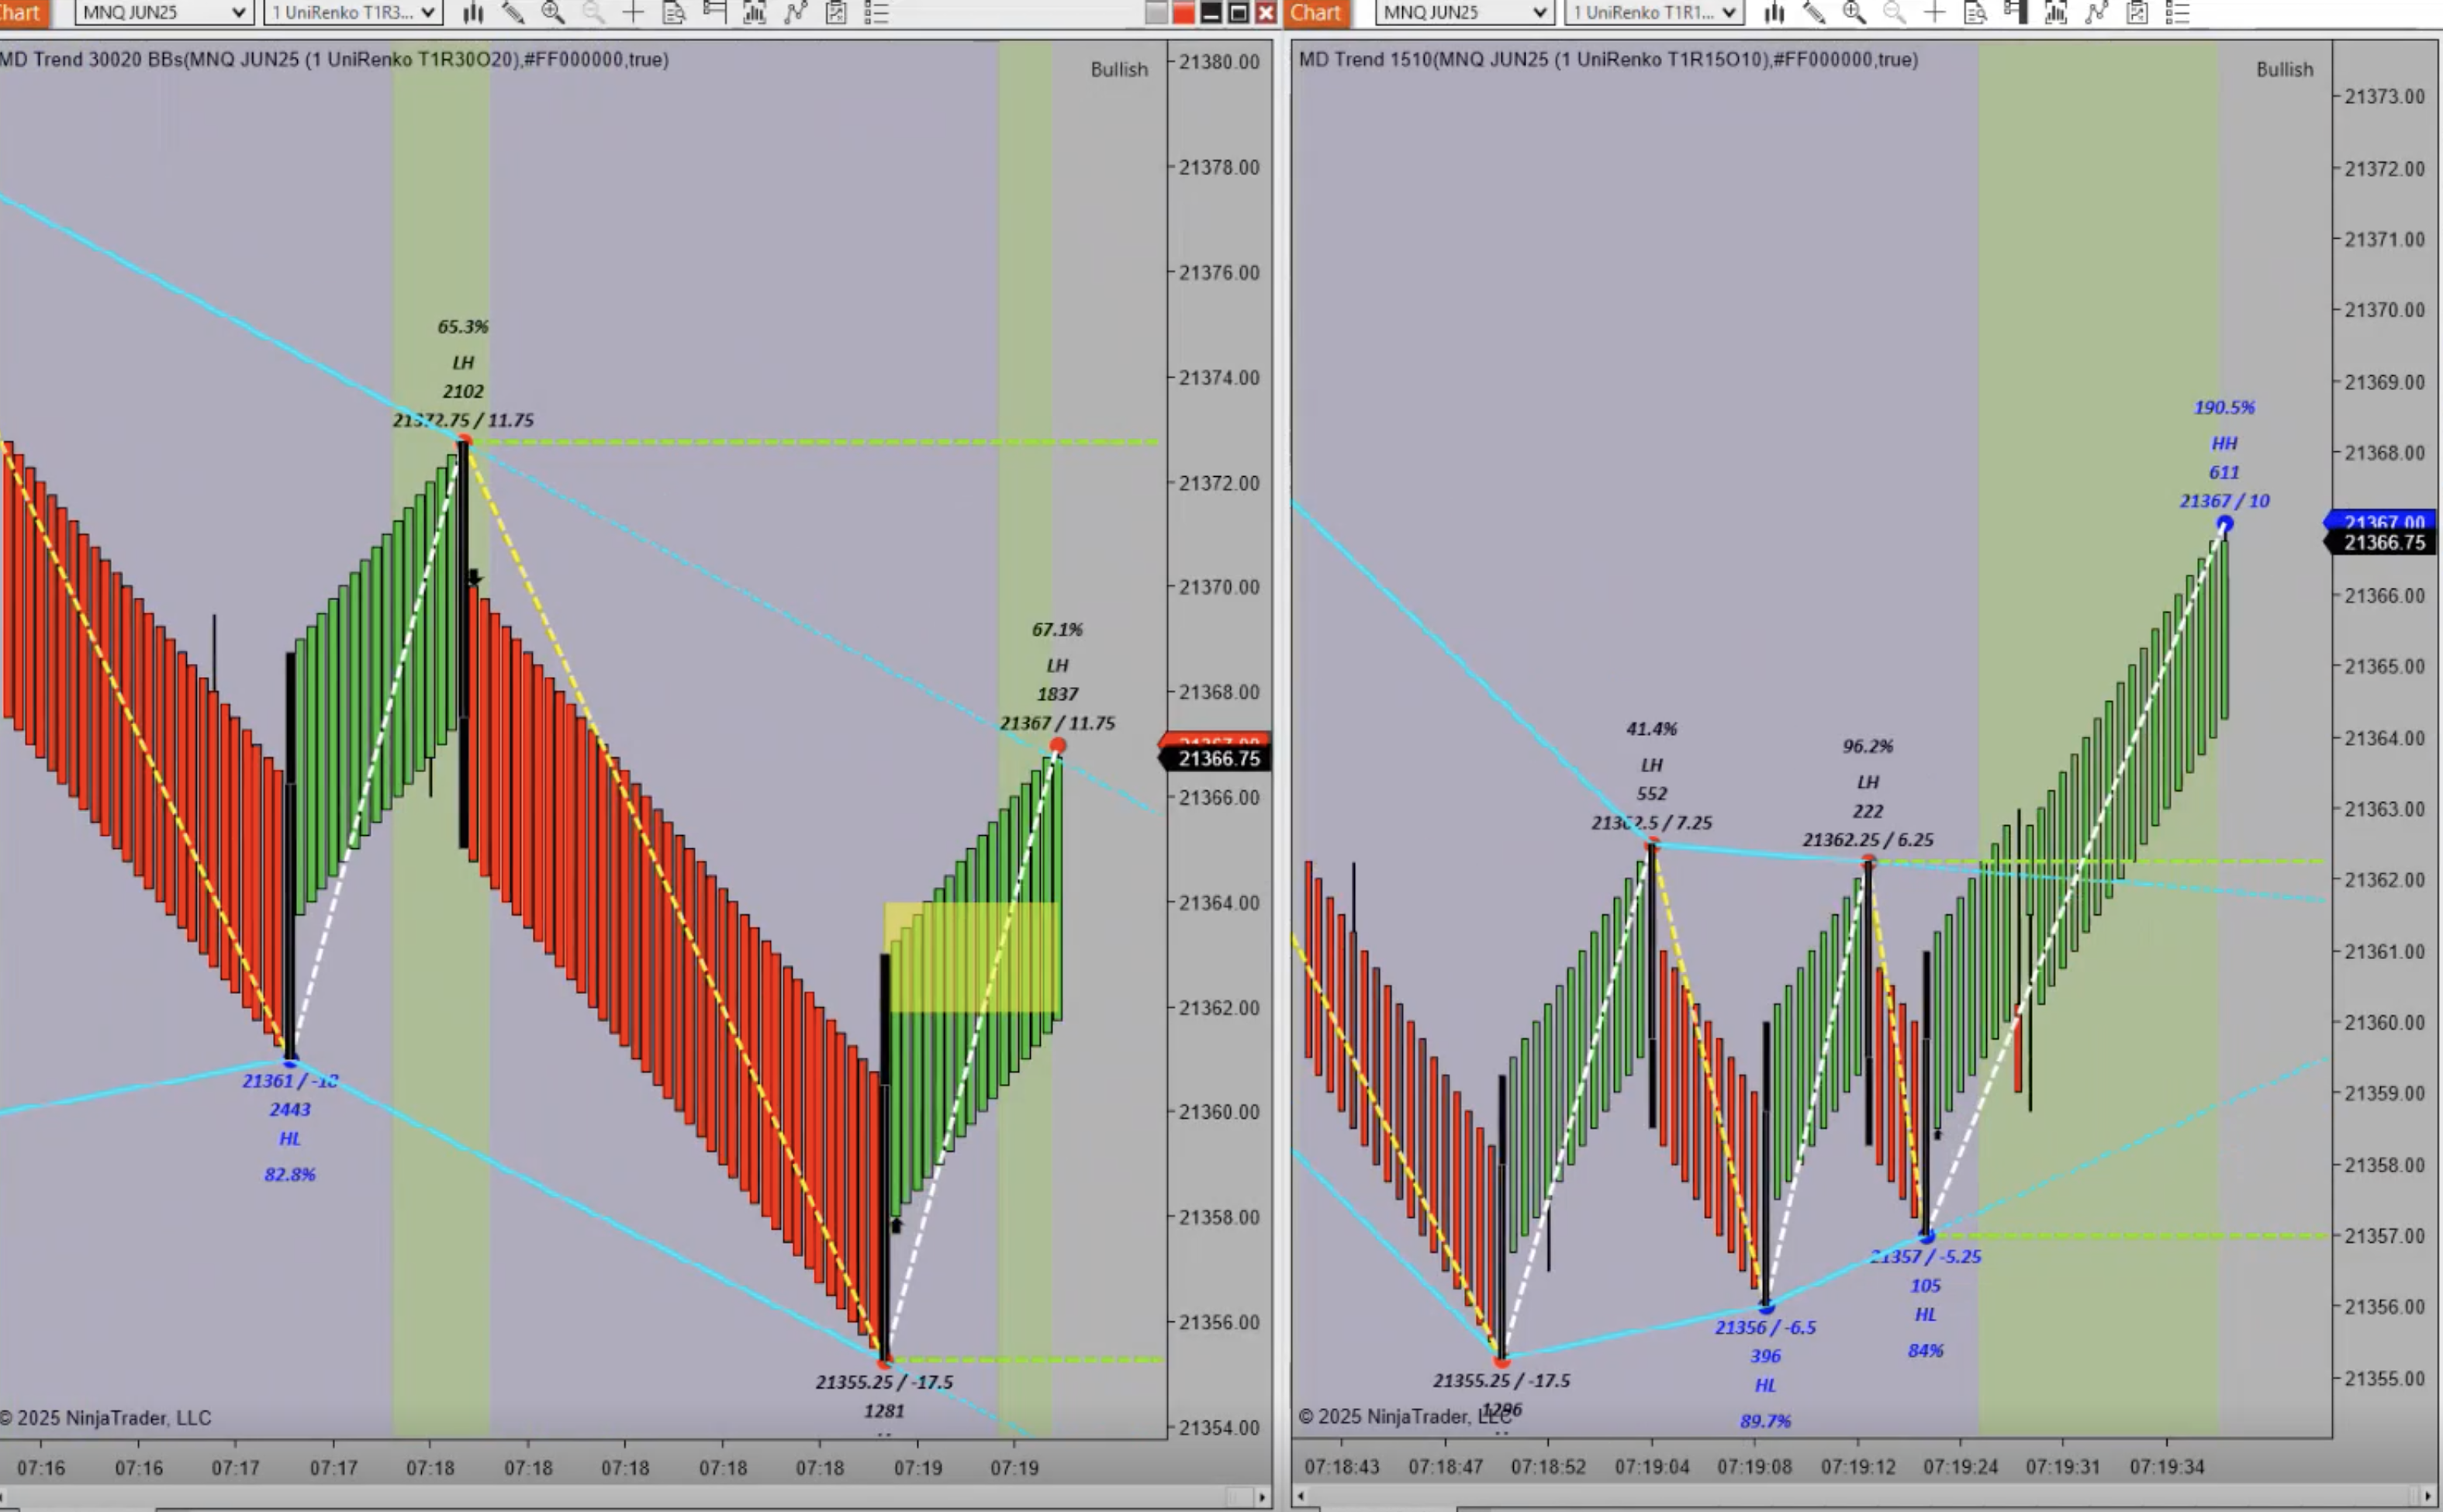candle: (279, 647, 305, 1069), (454, 431, 478, 862), (874, 950, 899, 1372), (1759, 1015, 1783, 1318), (1492, 1071, 1515, 1374), (1647, 835, 1666, 1137), (1921, 949, 1939, 1247), (1862, 858, 1878, 1168)
